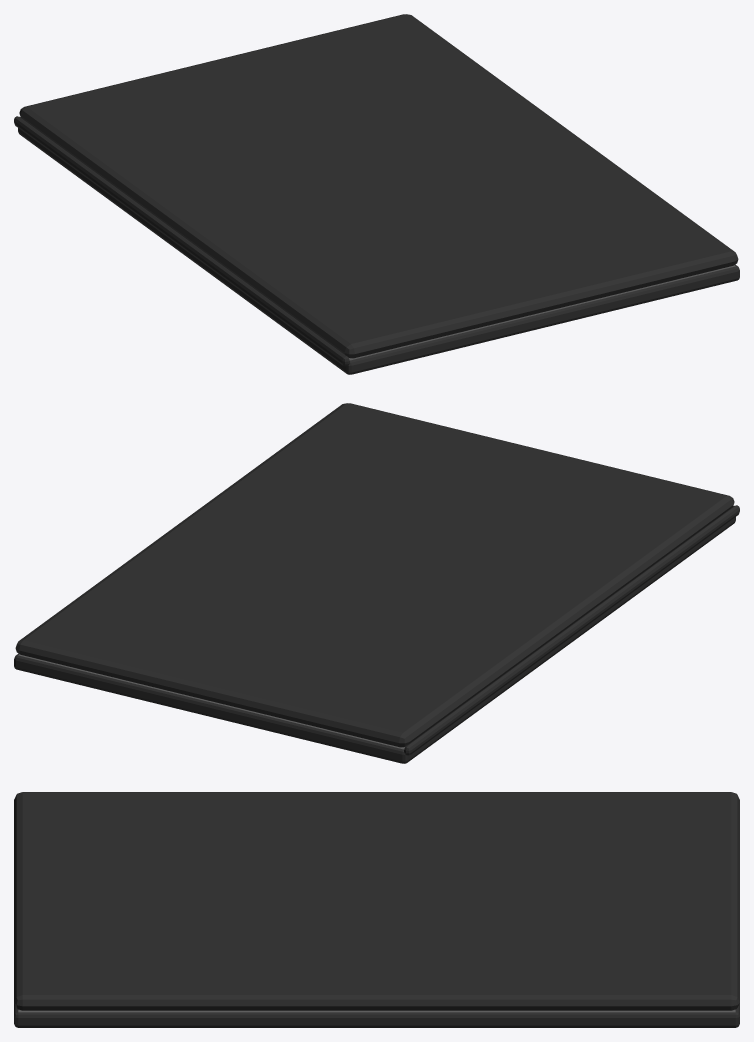
File: Laptop.glb
3 renders of one model, top to bottom at view 1: azimuth 30°, elevation 25°; view 2: azimuth 150°, elevation 25°; view 3: azimuth 270°, elevation 25°, orthographic. The views are drawn at different scales.
Visible parts, largest first — view 1: Cube.002, Cube; view 2: Cube.002, Cube; view 3: Cube.002, Cube.
Boxes of the visible parts, bbox=[...] form: Cube.002: bbox=[19, 14, 738, 358]; Cube: bbox=[14, 116, 739, 374]; Cube.002: bbox=[15, 403, 734, 747]; Cube: bbox=[14, 505, 739, 763]; Cube.002: bbox=[14, 792, 739, 1010]; Cube: bbox=[14, 1003, 739, 1027].
Size of the model in its own units: 0.2484 by 0.0185 by 0.3597.
Materials: 1 (1 with a texture image).
